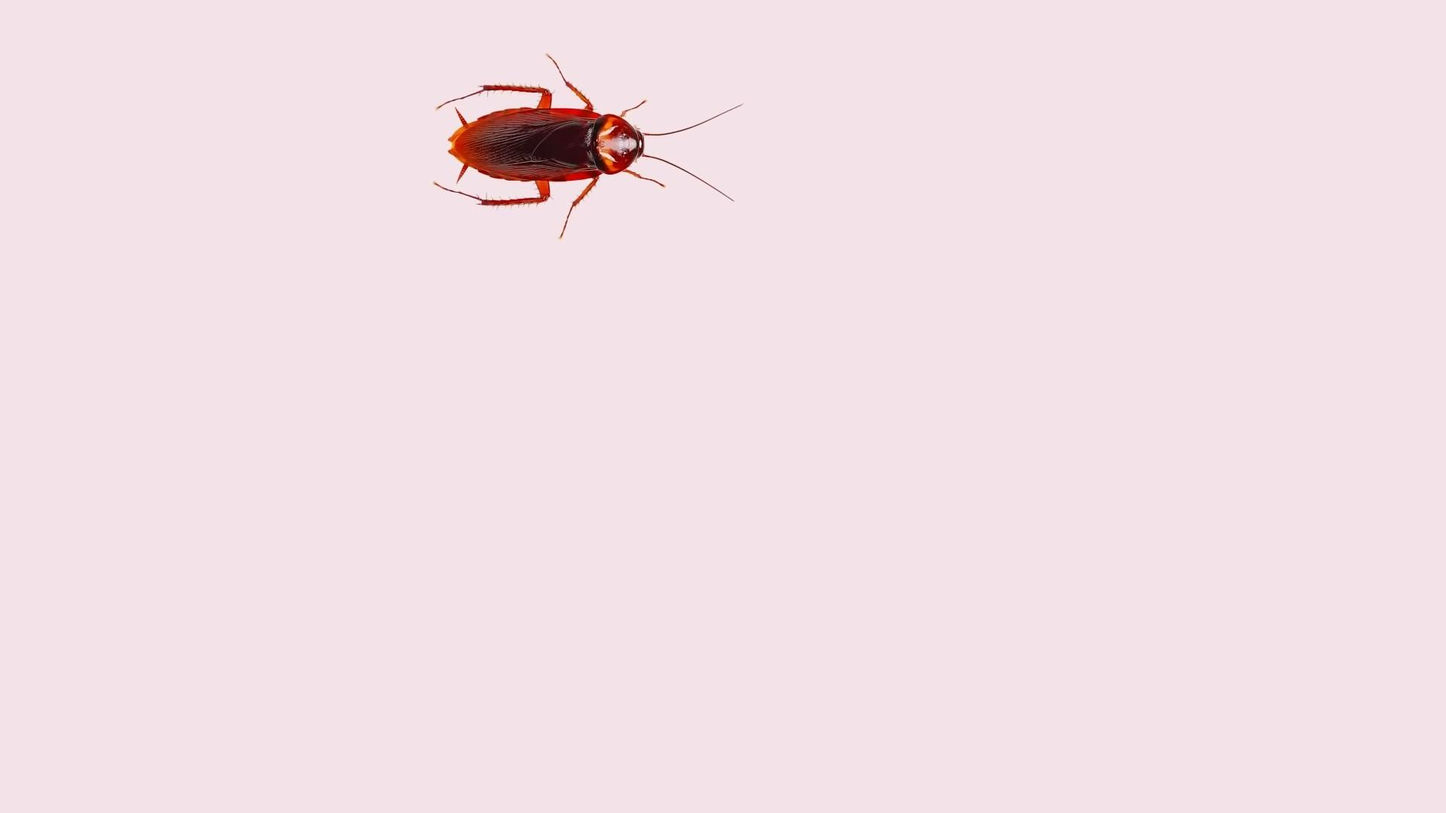cockroach: (435, 69, 647, 226)
